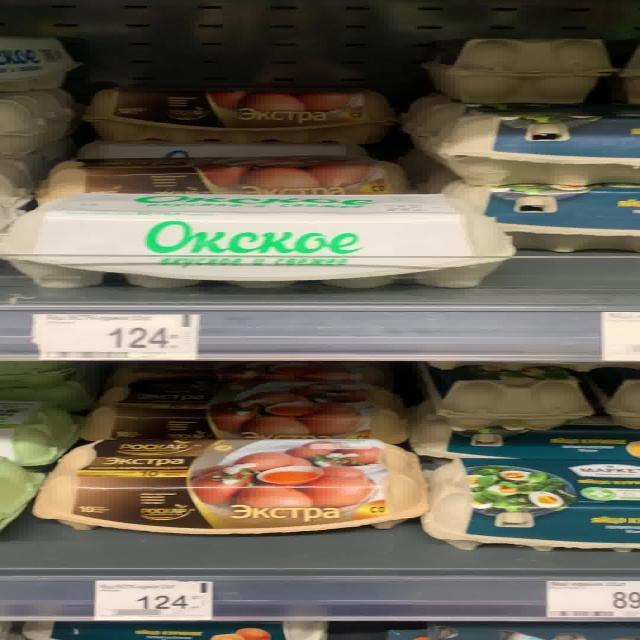egg box: (2, 186, 518, 288), (36, 433, 428, 534), (80, 81, 402, 146), (414, 458, 634, 552), (80, 387, 412, 441)
